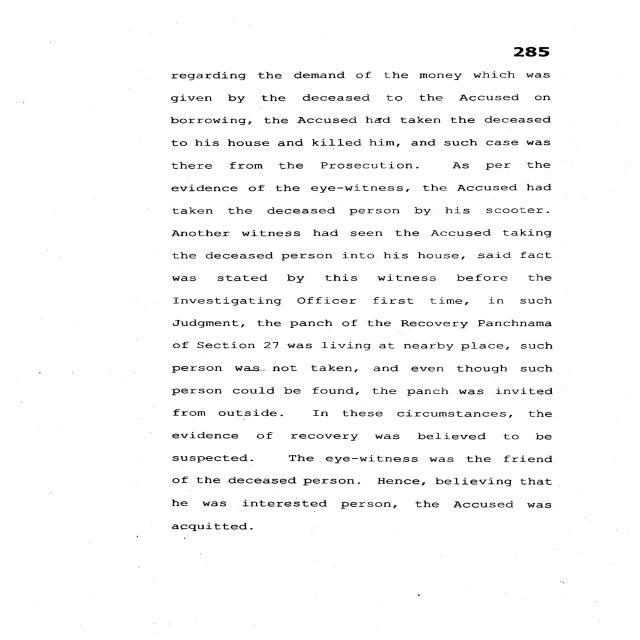page-number: (428, 0, 636, 62)
